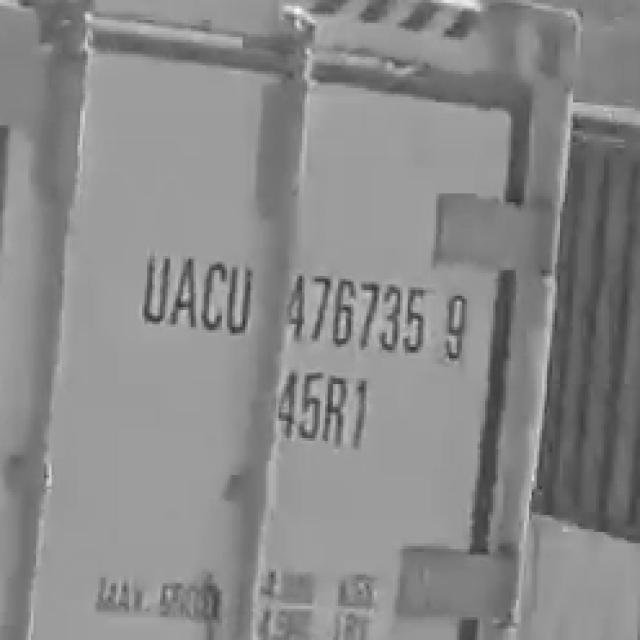dv: (436, 279, 470, 368)
owner: (123, 234, 253, 346)
serial: (276, 267, 422, 355)
size: (265, 363, 384, 461)
